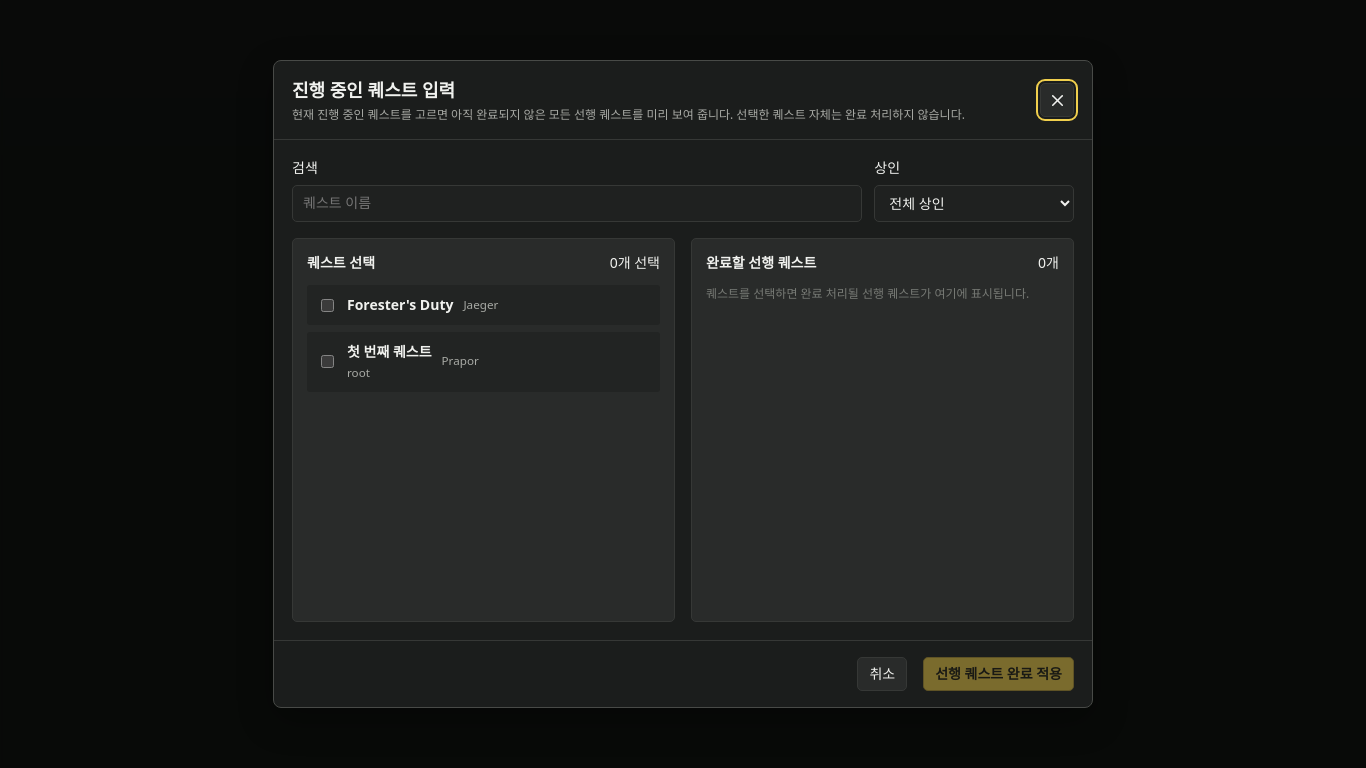
it: InProgressQuestDialog › finds a quest by its title despite punctuation or spacing: Forester’s Duty
Step 1. Type "Forester’s Duty" into the search field named "퀘스트 검색" → (577, 203), box [292,185,862,222]
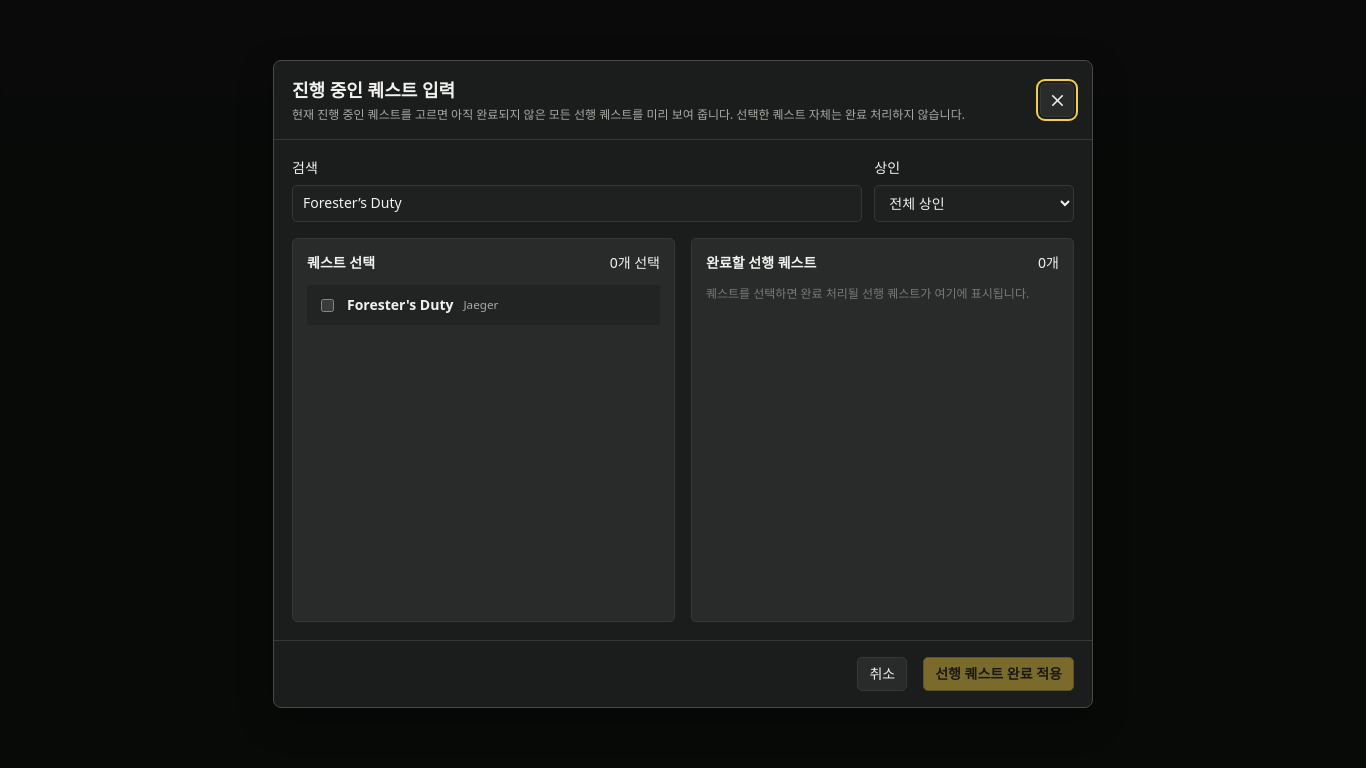
Expected: the checkbox labelled "Forester's Duty Jaeger" is shown, [321,299,334,312]
Now the text "첫 번째 퀘스트" is gone
